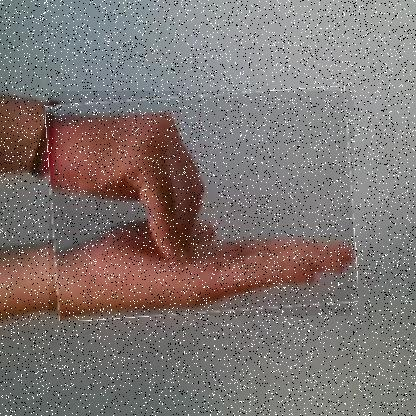Z: (49, 91, 355, 317)
